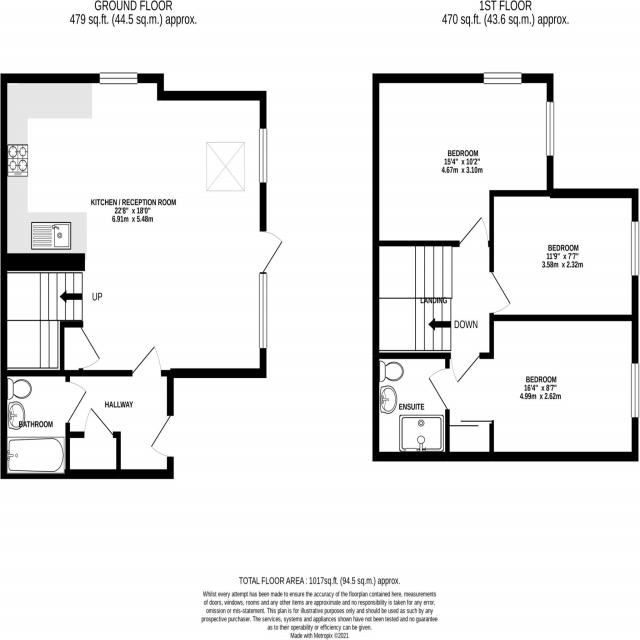DOOR: (147, 412, 175, 463), (258, 228, 285, 276), (63, 379, 90, 427), (130, 341, 164, 379), (77, 321, 102, 371), (82, 403, 115, 440), (488, 270, 513, 316), (458, 214, 489, 249), (426, 367, 450, 411), (450, 351, 480, 385)
ROOM: (0, 69, 287, 381), (371, 71, 556, 250), (426, 313, 639, 464), (488, 188, 638, 323)
WINDOW: (258, 271, 268, 351), (257, 127, 269, 184), (98, 70, 139, 86), (545, 100, 555, 158), (630, 361, 640, 419), (630, 220, 640, 277), (482, 71, 522, 85)
